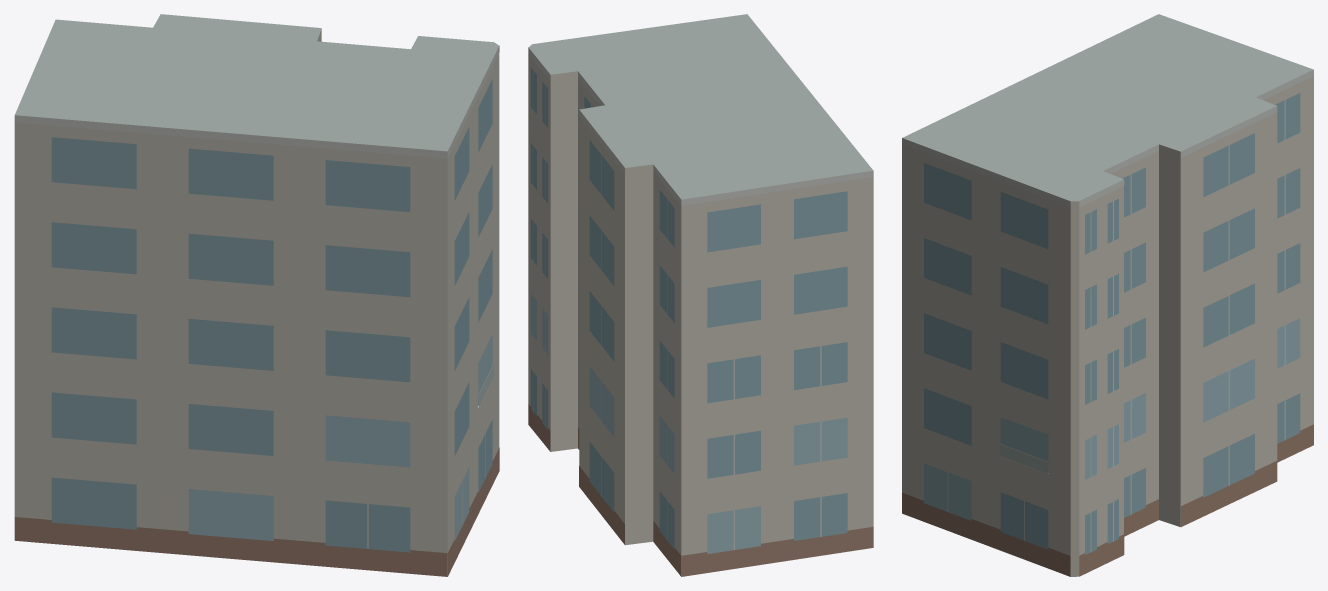
File: survey-upis-32704150.glb
3 views of the same model, side by side, from view 1: azimuth 30°, elevation 25°; view 2: azimuth 150°, elevation 25°; view 3: azimuth 270°, elevation 25° (orthographic). The views are drawn at different scales.
Parts seen in each view (by area): view 1: survey-upis-32704150.tmp; view 2: survey-upis-32704150.tmp; view 3: survey-upis-32704150.tmp.
Part boxes in pixels (x1=…): survey-upis-32704150.tmp: x1=14, y1=14, x2=499, y2=576; survey-upis-32704150.tmp: x1=528, y1=14, x2=873, y2=576; survey-upis-32704150.tmp: x1=902, y1=14, x2=1313, y2=576.
Bounding box in the file's own units: 15.51 × 14.5 × 14.41.
